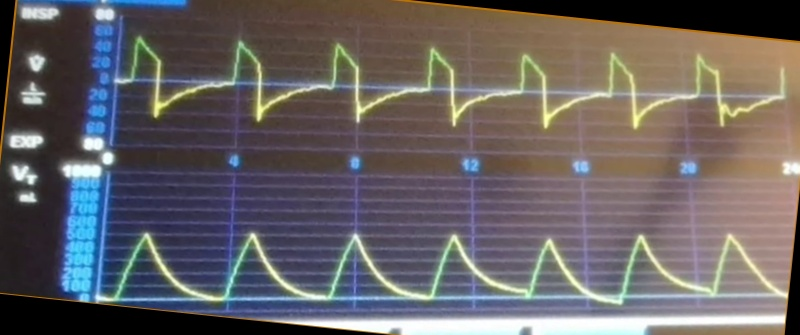Premature_cycling Flow: (124, 33, 786, 145)
Premature_cycling Volume: (106, 223, 783, 307)
